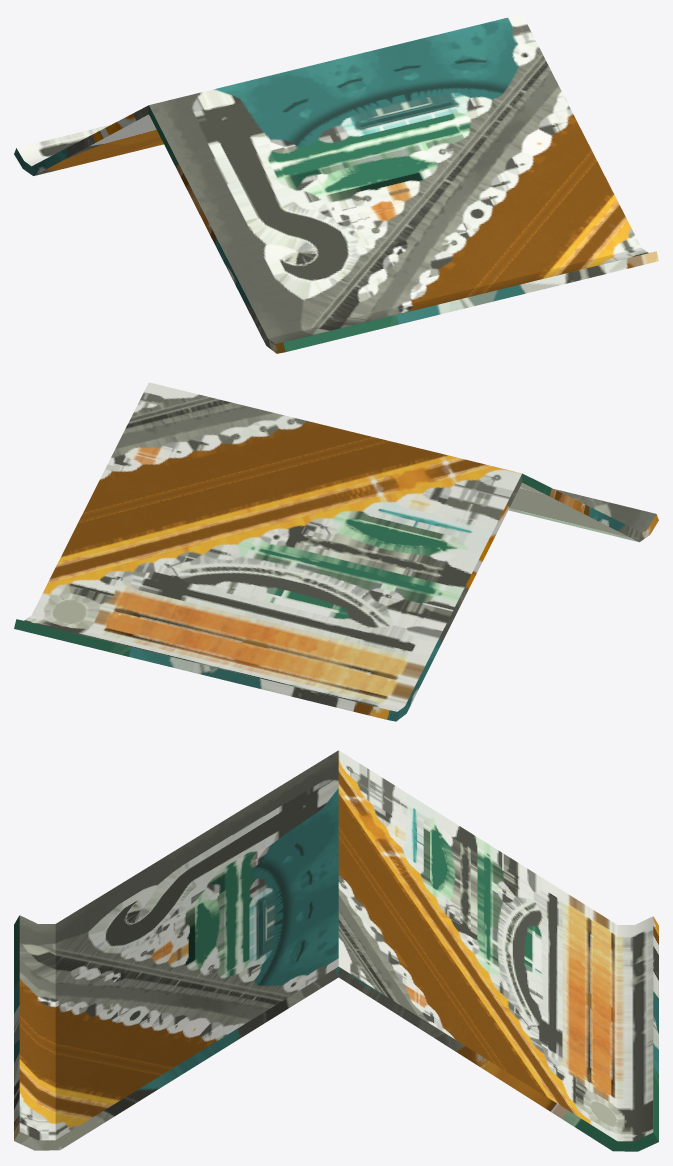
The model's file is Roof.fbx.
3 views of the same model, one above another, from view 1: azimuth 30°, elevation 25°; view 2: azimuth 150°, elevation 25°; view 3: azimuth 270°, elevation 25° (orthographic). The views are drawn at different scales.
Parts seen in each view (by area): view 1: Roof_low; view 2: Roof_low; view 3: Roof_low.
Boxes of the visible parts, x1,y1,x2,y2 form: Roof_low: (14, 14, 658, 353); Roof_low: (14, 382, 658, 721); Roof_low: (14, 750, 658, 1151).
Bounding box in the file's own units: 26.79 × 10.69 × 33.76.
